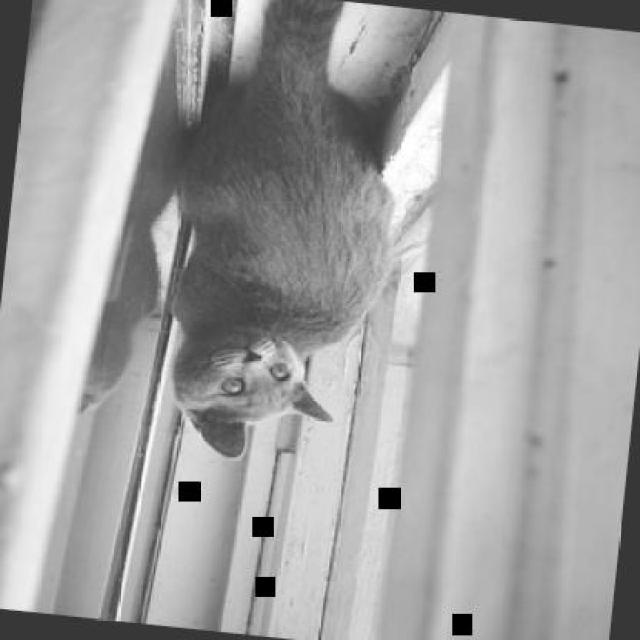cat: (150, 0, 415, 475)
